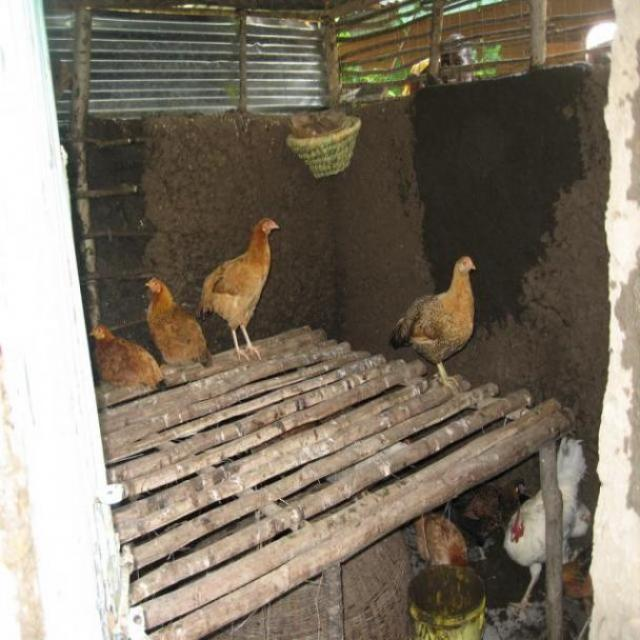Chicken: (504, 435, 587, 619), (383, 251, 483, 386), (197, 217, 278, 362), (450, 475, 531, 561), (146, 278, 214, 365), (88, 323, 163, 388), (413, 511, 467, 562)
